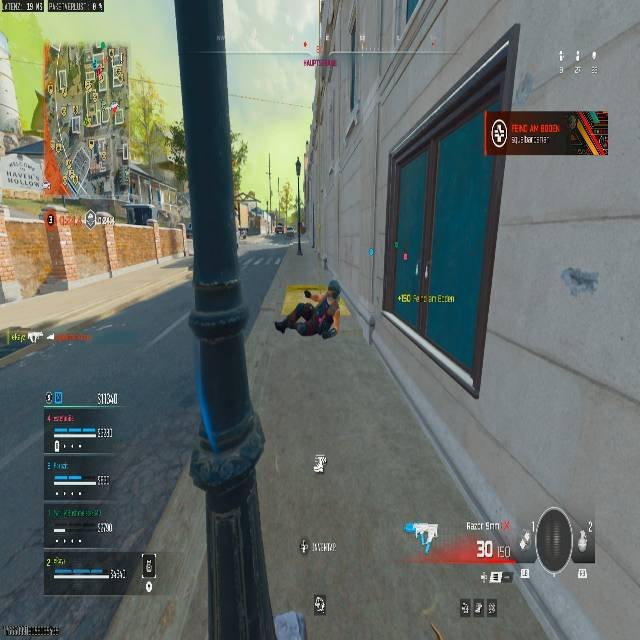head: (327, 279, 341, 297)
player: (273, 279, 342, 339)
